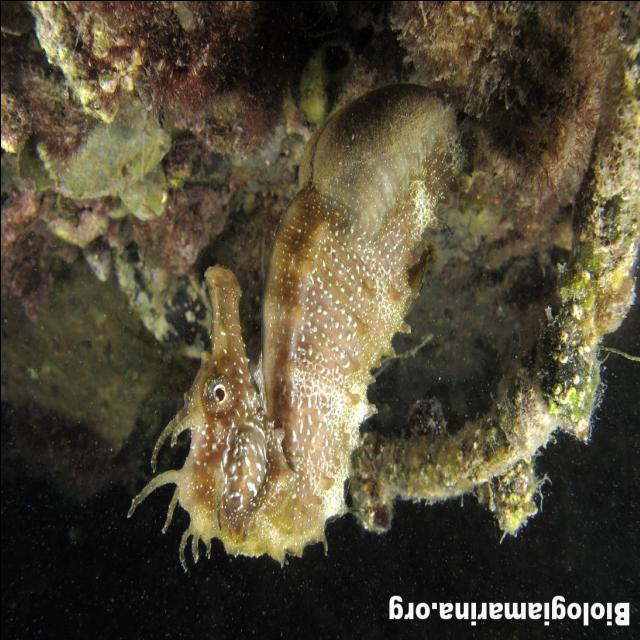Guttu: (168, 248, 275, 564)
